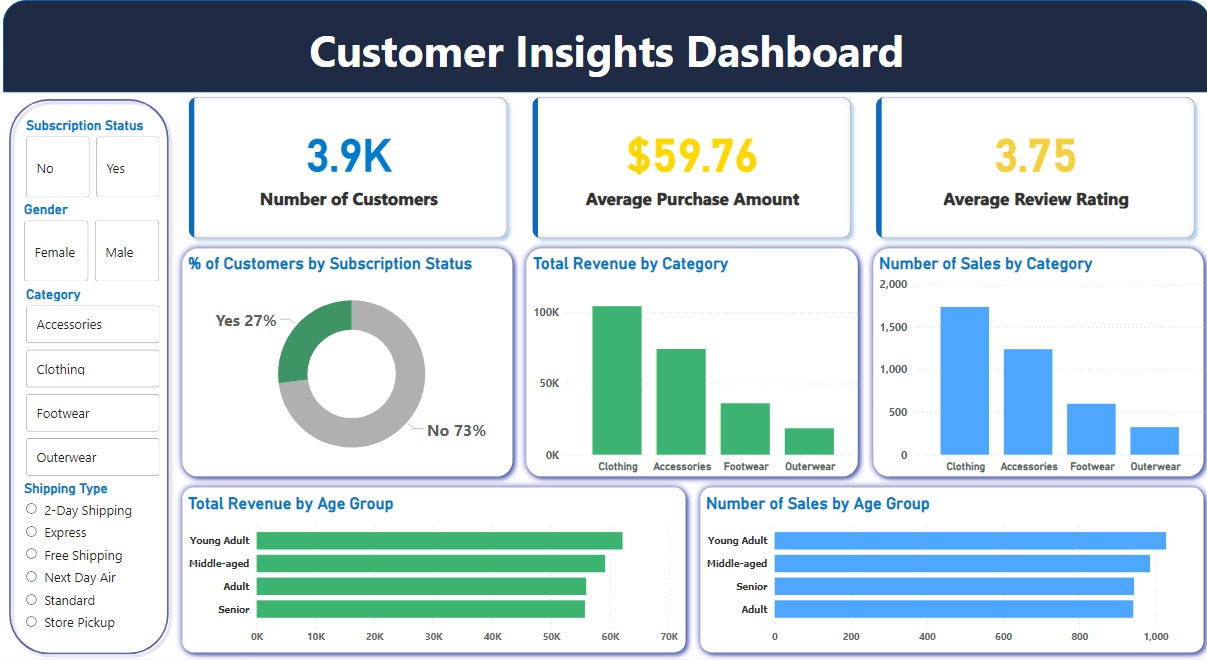

What the dashboard file says about the page in this screenshot:
{"tool":"powerbi","page":{"name":"Page 1","canvas":[1500,820],"ordinal":0},"visuals":[{"type":"cardVisual","fields":{"Data":["public customer.Number of Customers","public customer.Average Purchase Amount","public customer.Average Review Rating"]},"box":[213.3,103.3,1286.7,210],"z":0},{"type":"shape","box":[0,0,1500,115],"z":1000},{"type":"textbox","box":[0,20,1500,95],"z":2000},{"type":"shape","box":[213.3,300,428.3,301.7],"z":3000},{"type":"donutChart","title":"% of Customers by Subscription Status","fields":{"Category":["public customer.subscription_status"],"Y":["CountNonNull(public customer.customer_id)"]},"box":[225,315,416.7,275],"z":4000},{"type":"shape","box":[641.7,300,430,301.7],"z":5000},{"type":"shape","box":[1071.7,300,428.3,301.7],"z":6000},{"type":"clusteredColumnChart","title":"Total Revenue by Category","fields":{"Category":["public customer.category"],"Y":["Sum(public customer.purchase_amount)"]},"box":[653.3,315,418.3,278.3],"z":6001},{"type":"clusteredColumnChart","title":"Number of Sales by Category","fields":{"Category":["public customer.category"],"Y":["CountNonNull(public customer.customer_id)"]},"box":[1083.3,315,416.7,278.3],"z":6002},{"type":"shape","box":[0,115,213.3,705],"z":6003},{"type":"advancedSlicerVisual","title":"Subscription Status","fields":{"Values":["public customer.subscription_status"]},"box":[23.3,145,176.7,105],"z":6004},{"type":"advancedSlicerVisual","title":"Gender","fields":{"Values":["public customer.gender"]},"box":[21.7,250,178.3,105],"z":6005},{"type":"advancedSlicerVisual","title":"Category","fields":{"Values":["public customer.category"]},"box":[23.3,355,176.7,241.7],"z":6007},{"type":"listSlicer","title":"Shipping Type","fields":{"Values":["public customer.shipping_type"]},"box":[21.7,596.7,178.3,223.3],"z":6008},{"type":"shape","box":[213.3,596.7,643.3,223.3],"z":6010},{"type":"shape","box":[856.7,596.7,643.3,223.3],"z":6011},{"type":"clusteredBarChart","title":"Total Revenue by Age Group","fields":{"Category":["public customer.age_group"],"Y":["Sum(public customer.purchase_amount)"]},"box":[225,613.3,618.3,195],"z":6012},{"type":"clusteredBarChart","title":"Number of Sales by Age Group","fields":{"Category":["public customer.age_group"],"Y":["CountNonNull(public customer.customer_id)"]},"box":[868.3,613.3,631.7,195],"z":6013}]}

Visuals, with their boxes in screenshot pixels (x1, y1, x2, y2), scaled from the page's 1500x820 canvas onto the 1207x660 screenshot:
cardVisual - public customer.Number of Customers x public customer.Average Purchase Amount: crop(172, 83, 1206, 252)
shape: crop(0, 0, 1206, 93)
textbox: crop(0, 16, 1206, 93)
shape: crop(172, 241, 516, 484)
"% of Customers by Subscription Status" donutChart: crop(181, 254, 516, 475)
shape: crop(516, 241, 862, 484)
shape: crop(862, 241, 1206, 484)
"Total Revenue by Category" clusteredColumnChart: crop(526, 254, 862, 478)
"Number of Sales by Category" clusteredColumnChart: crop(872, 254, 1206, 478)
shape: crop(0, 93, 172, 659)
"Subscription Status" advancedSlicerVisual: crop(19, 117, 161, 201)
"Gender" advancedSlicerVisual: crop(17, 201, 161, 286)
"Category" advancedSlicerVisual: crop(19, 286, 161, 480)
"Shipping Type" listSlicer: crop(17, 480, 161, 659)
shape: crop(172, 480, 689, 659)
shape: crop(689, 480, 1206, 659)
"Total Revenue by Age Group" clusteredBarChart: crop(181, 494, 679, 651)
"Number of Sales by Age Group" clusteredBarChart: crop(699, 494, 1206, 651)
